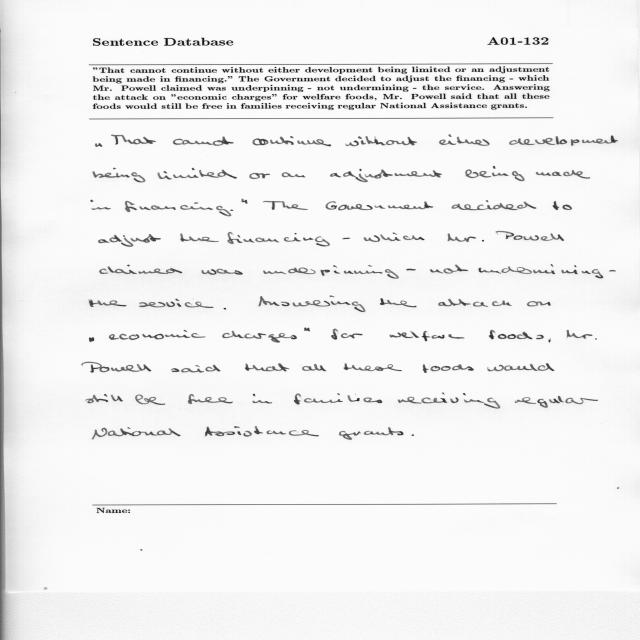word: (263, 265, 399, 279), (479, 265, 603, 279), (259, 296, 365, 312), (125, 201, 231, 216), (398, 393, 500, 408), (330, 169, 442, 182), (228, 232, 330, 246), (205, 426, 319, 437), (509, 135, 618, 146), (93, 427, 181, 440), (294, 393, 382, 405), (514, 396, 598, 408), (325, 202, 433, 211), (109, 330, 205, 340), (465, 166, 525, 181), (222, 331, 297, 343), (157, 168, 237, 179), (452, 200, 536, 210), (339, 427, 403, 440), (99, 234, 161, 247), (253, 136, 331, 146), (93, 168, 145, 183), (82, 362, 151, 373), (390, 331, 465, 341), (100, 265, 182, 274), (345, 136, 417, 146), (496, 231, 564, 241), (139, 299, 213, 308), (439, 134, 490, 146), (173, 136, 234, 146), (364, 232, 424, 242), (438, 299, 512, 307), (489, 330, 544, 340), (488, 363, 555, 371), (536, 170, 590, 179), (344, 363, 402, 371), (423, 364, 474, 373), (111, 135, 156, 145), (188, 394, 233, 404), (263, 201, 308, 210), (171, 365, 221, 373), (245, 363, 289, 372), (180, 233, 219, 242), (430, 265, 468, 274), (331, 329, 362, 340), (86, 394, 123, 403), (135, 394, 165, 405), (380, 298, 416, 307), (89, 299, 127, 307), (567, 330, 597, 340), (448, 234, 484, 242), (201, 269, 243, 275), (91, 200, 111, 210), (253, 394, 273, 404), (553, 201, 572, 210), (302, 364, 326, 371), (249, 173, 270, 179), (282, 173, 306, 178), (527, 301, 551, 306), (242, 199, 248, 204), (96, 143, 103, 147), (90, 337, 95, 342), (406, 269, 416, 271), (304, 328, 310, 331), (609, 270, 616, 272), (343, 238, 351, 239), (231, 209, 234, 211), (549, 340, 551, 343), (411, 434, 414, 436), (224, 308, 226, 310)
